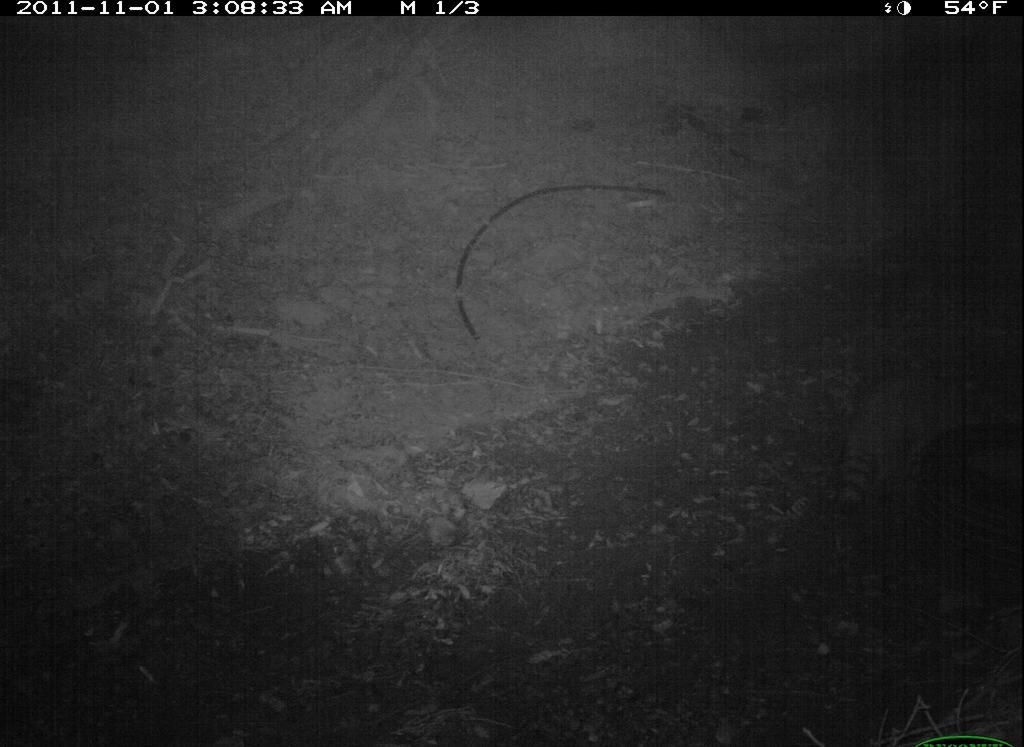raccoon: (815, 351, 1017, 507)
